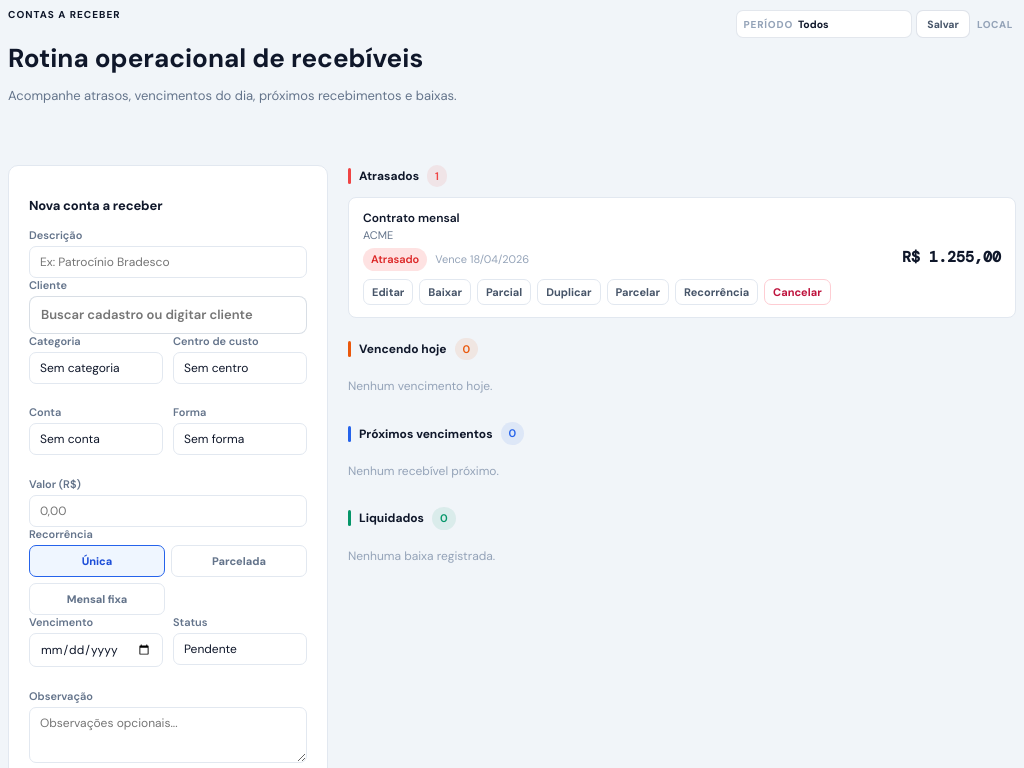
Test: receivables page clears the form back to the initial state
Expected: the heading "Rotina operacional de recebíveis" is shown, x1=8 y1=43 x2=457 y2=74
Type "Recebível temporário" into the field labelled "Descrição" at (168, 262), box x1=29 y1=246 x2=307 y2=278
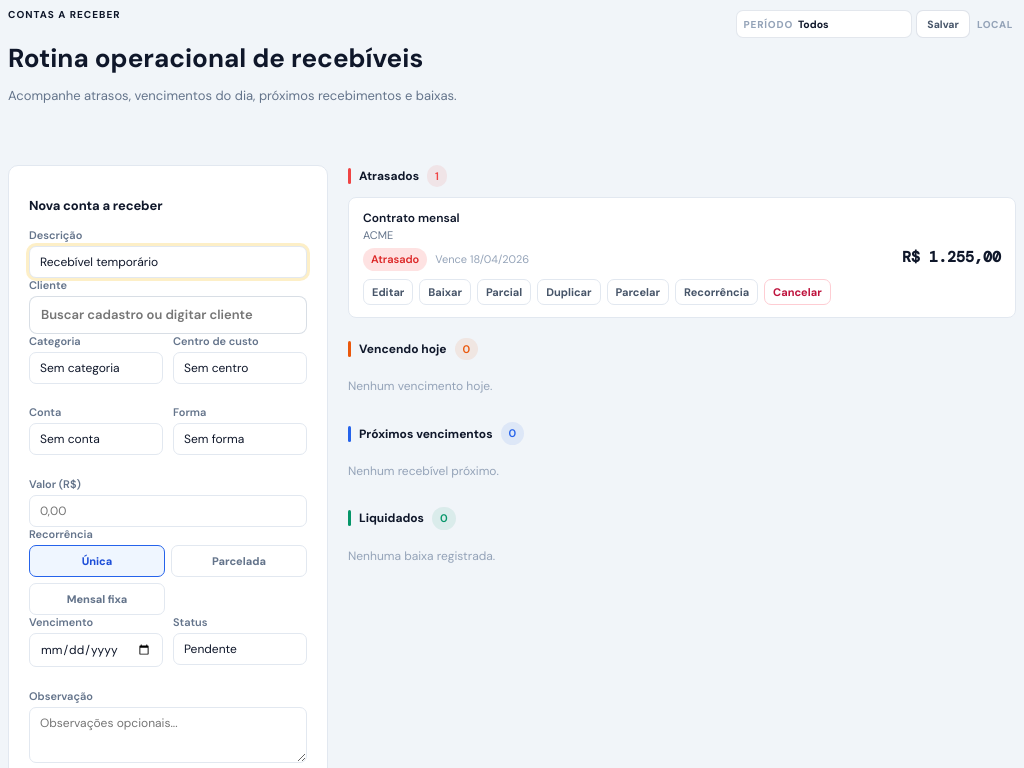
Type "Cliente XPTO" into the field labelled "Cliente" at (168, 314), box x1=29 y1=296 x2=307 y2=334
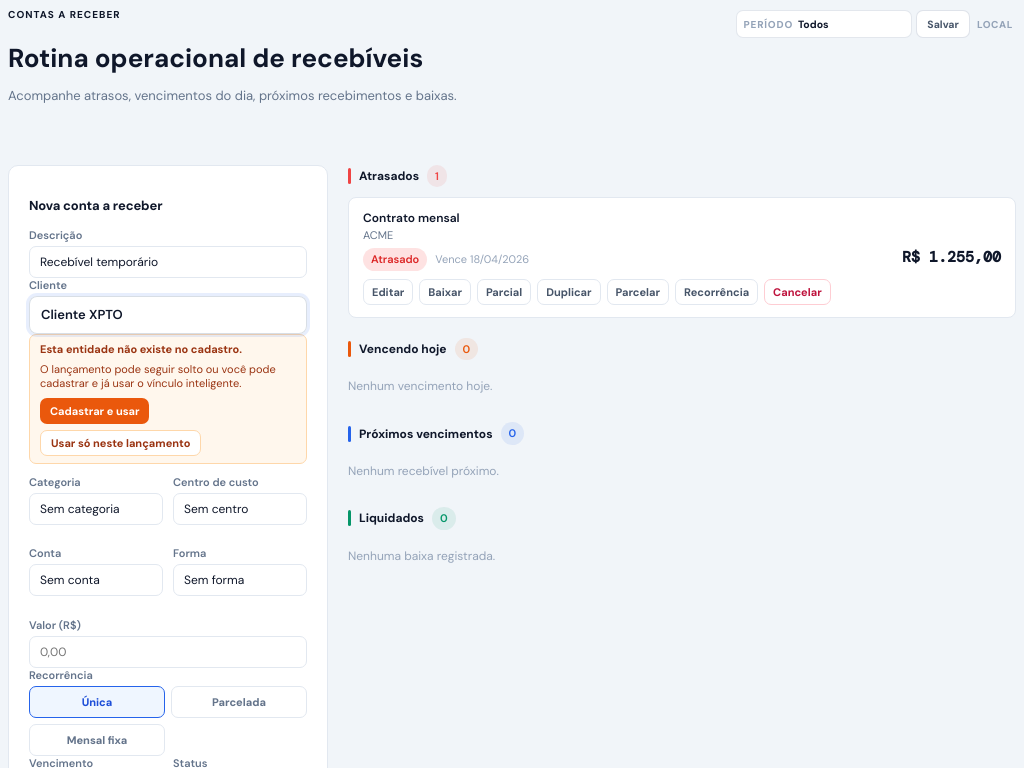
Type "55,00" into the field labelled "Valor (R$)" at (168, 652), box x1=29 y1=636 x2=307 y2=668
(page scrolled)
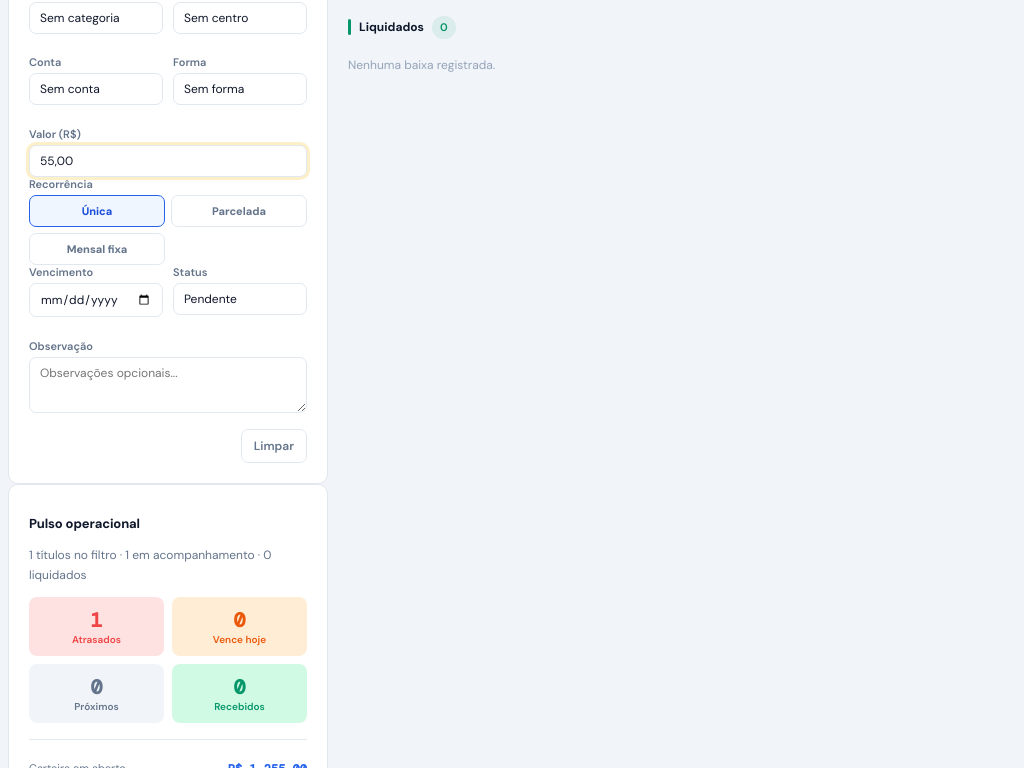
Type "Anotação temporária" into the text box labelled "Observação" at (168, 384), box x1=29 y1=356 x2=307 y2=412
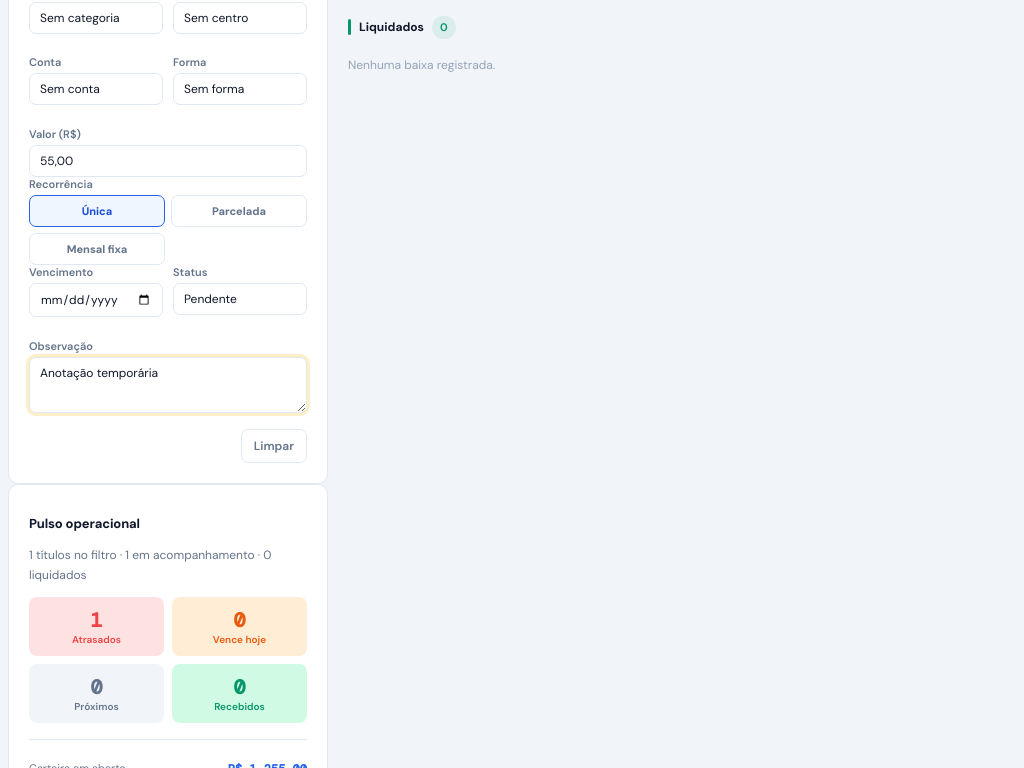
Click the button "Limpar" at (274, 446), box x1=241 y1=428 x2=307 y2=462
(page scrolled)
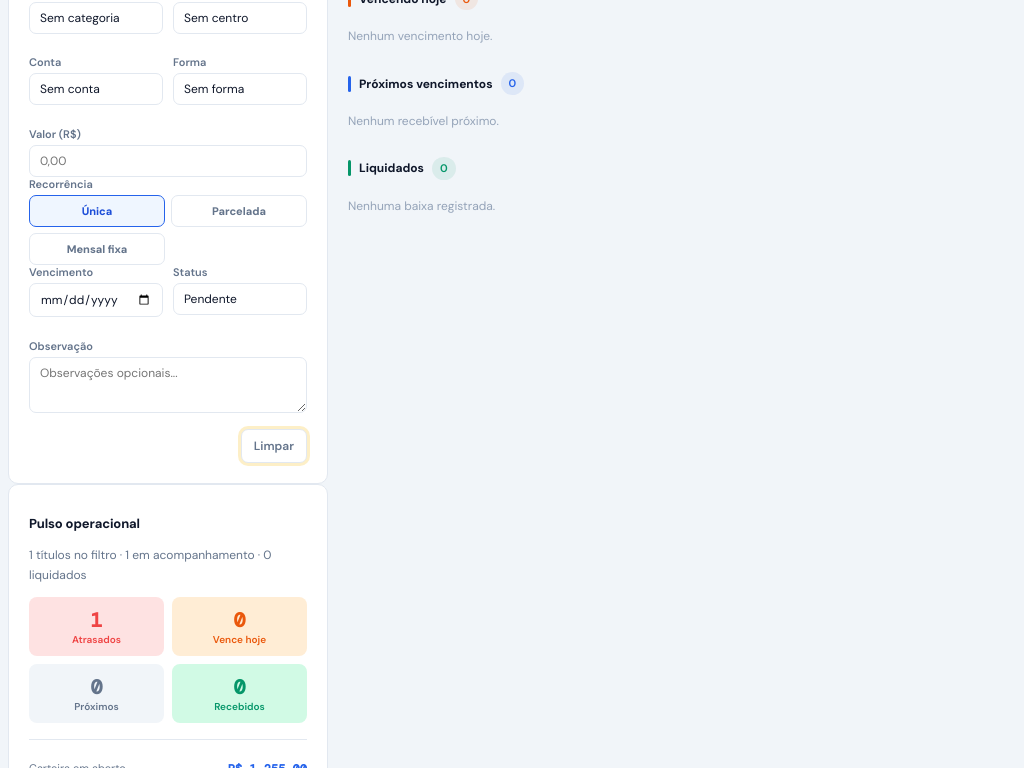
Expected: the dropdown labelled "Status" shows "Pendente", x1=173 y1=282 x2=307 y2=314
Result: the field labelled "Valor (R$)" is empty at x1=29 y1=144 x2=307 y2=176
Result: the text box labelled "Observação" is empty at x1=29 y1=356 x2=307 y2=412
